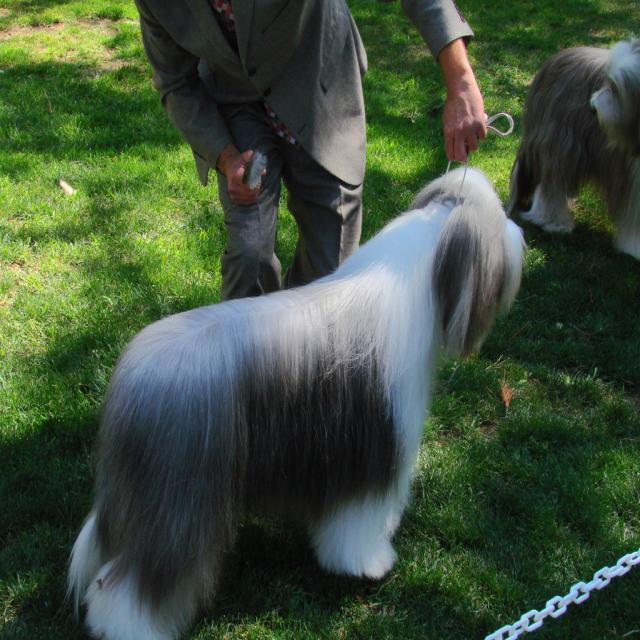Dog: (65, 166, 532, 639), (507, 36, 639, 261)
